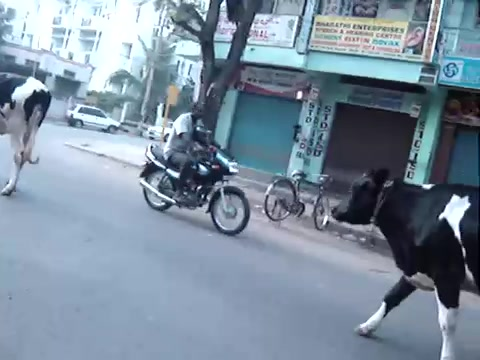cow: (334, 170, 480, 360)
